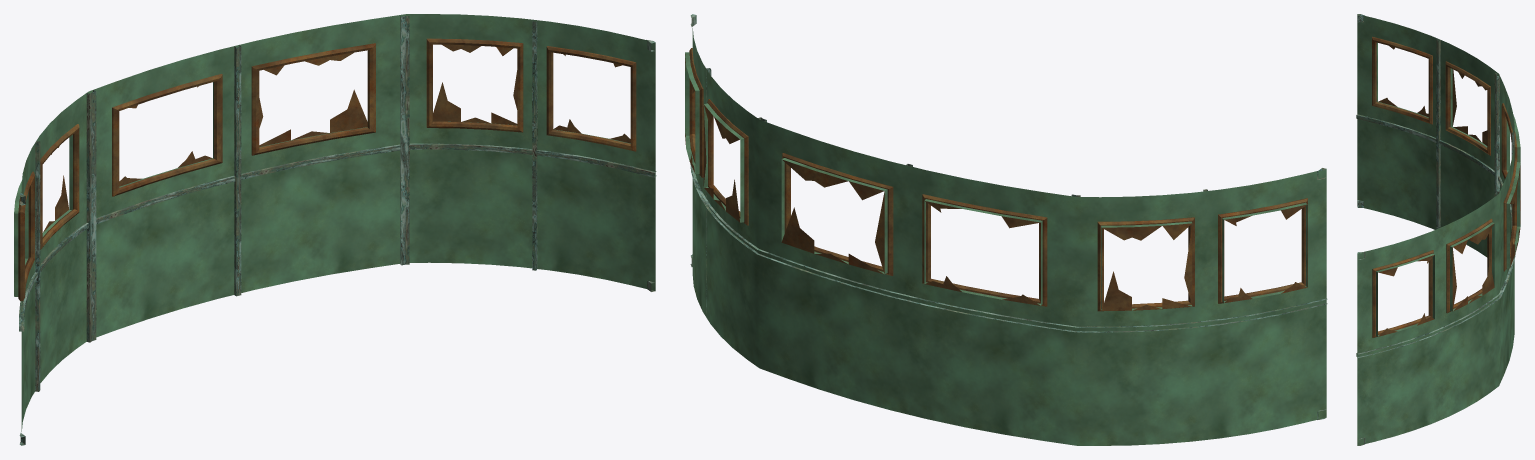
File: Wall_BridgeCurved.FBX
The picture shows the model from 3 angles, left to right: view 1: azimuth 30°, elevation 25°; view 2: azimuth 150°, elevation 25°; view 3: azimuth 270°, elevation 25°; orthographic projection. The views are drawn at different scales.
Parts seen in each view (by area): view 1: Curved wall-Transition; view 2: Curved wall-Transition; view 3: Curved wall-Transition.
Part boxes in pixels (<box>): Curved wall-Transition: <box>14,14,656,445</box>; Curved wall-Transition: <box>685,14,1327,445</box>; Curved wall-Transition: <box>1356,14,1520,445</box>.
Size of the model in its own units: 805 by 300 by 232.
